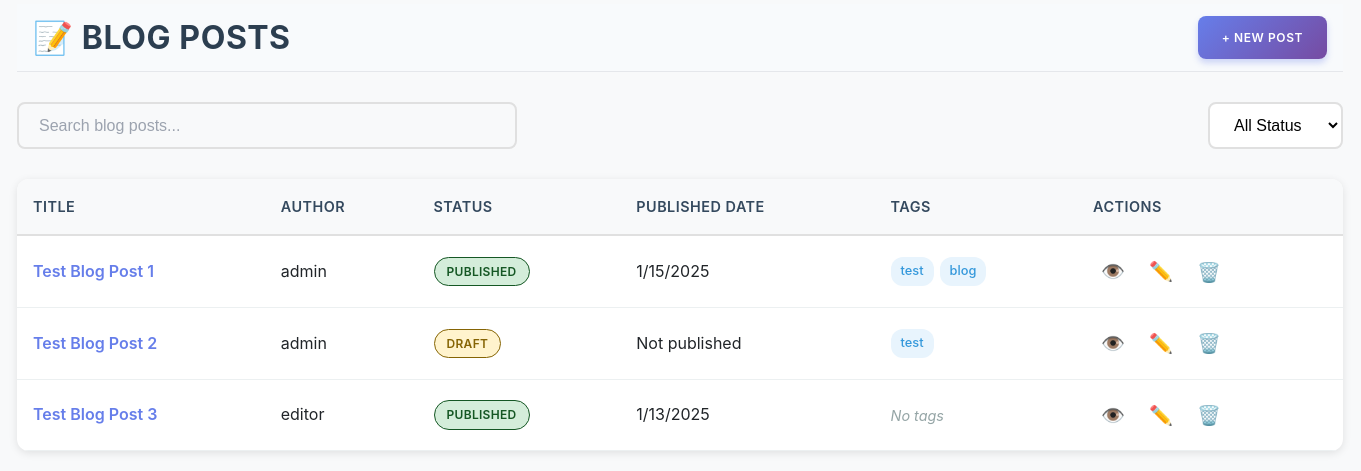
Test case: BlogPostList Component › Filtering and Search › should filter by status
Select "Published" in the dropdown with test id "status-filter". click: point(1276, 126)
box: [1208, 102, 1343, 149]
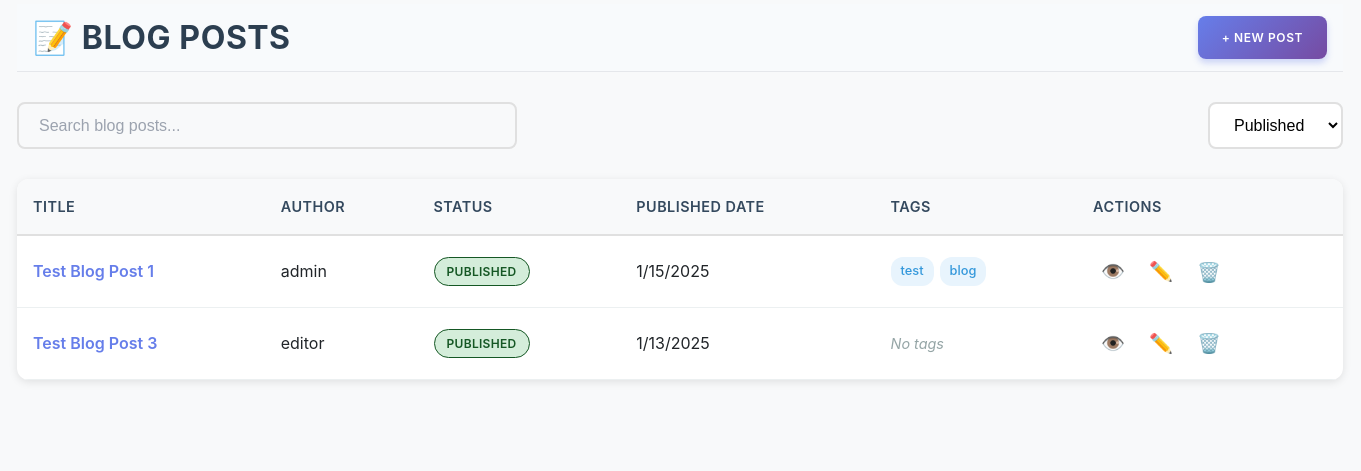
expect the text "published" is shown 2 times: met, box [434, 257, 530, 286]; [434, 329, 530, 358]
expect the text "draft" is gone: met
